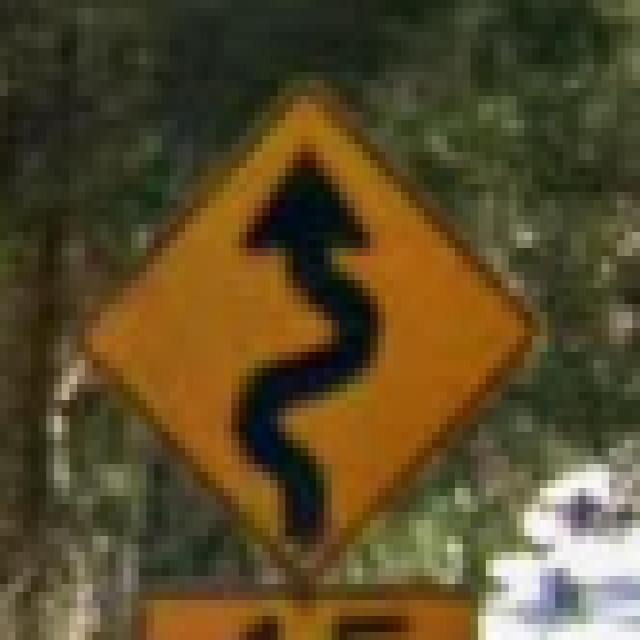Banyak Tikungan Pertama Kiri: (54, 56, 548, 584)
